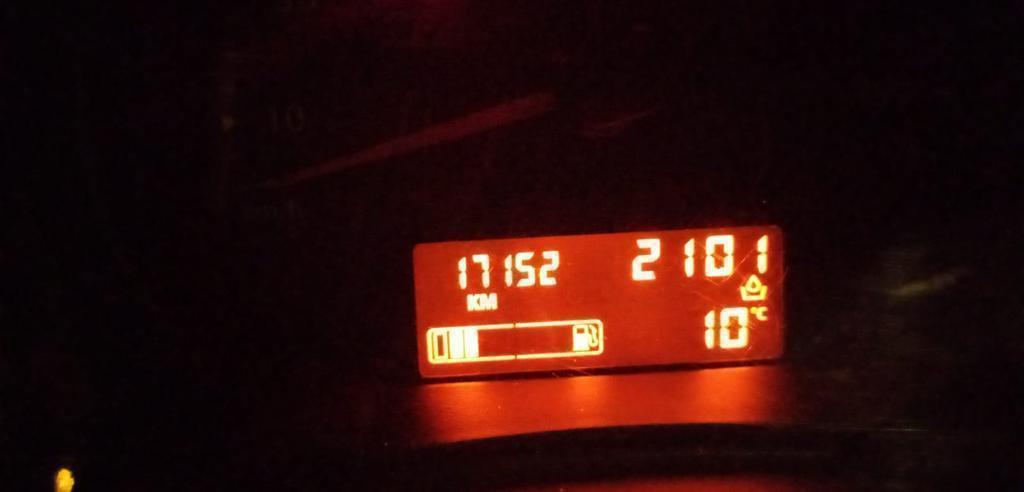0: (703, 233, 735, 279), (718, 305, 749, 350)
1: (752, 232, 771, 274), (700, 306, 717, 351), (681, 236, 695, 279), (453, 254, 469, 291), (501, 251, 514, 288)
2: (629, 235, 662, 283), (537, 249, 561, 287)
5: (514, 250, 537, 288)
7: (470, 250, 490, 289)
X: (481, 291, 498, 311), (465, 291, 480, 313), (756, 304, 769, 321)
odometer: (407, 217, 789, 383)
